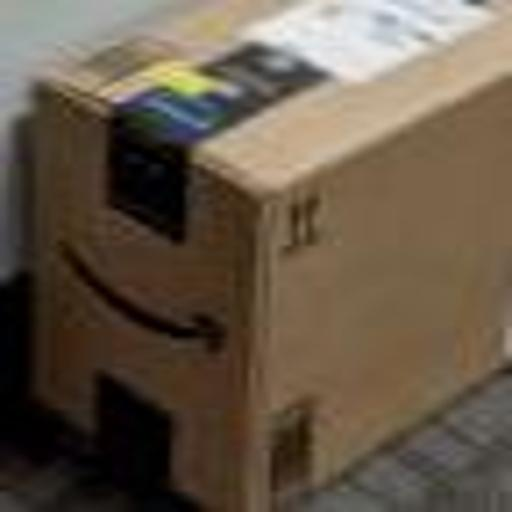Amazon: (45, 2, 512, 478)
